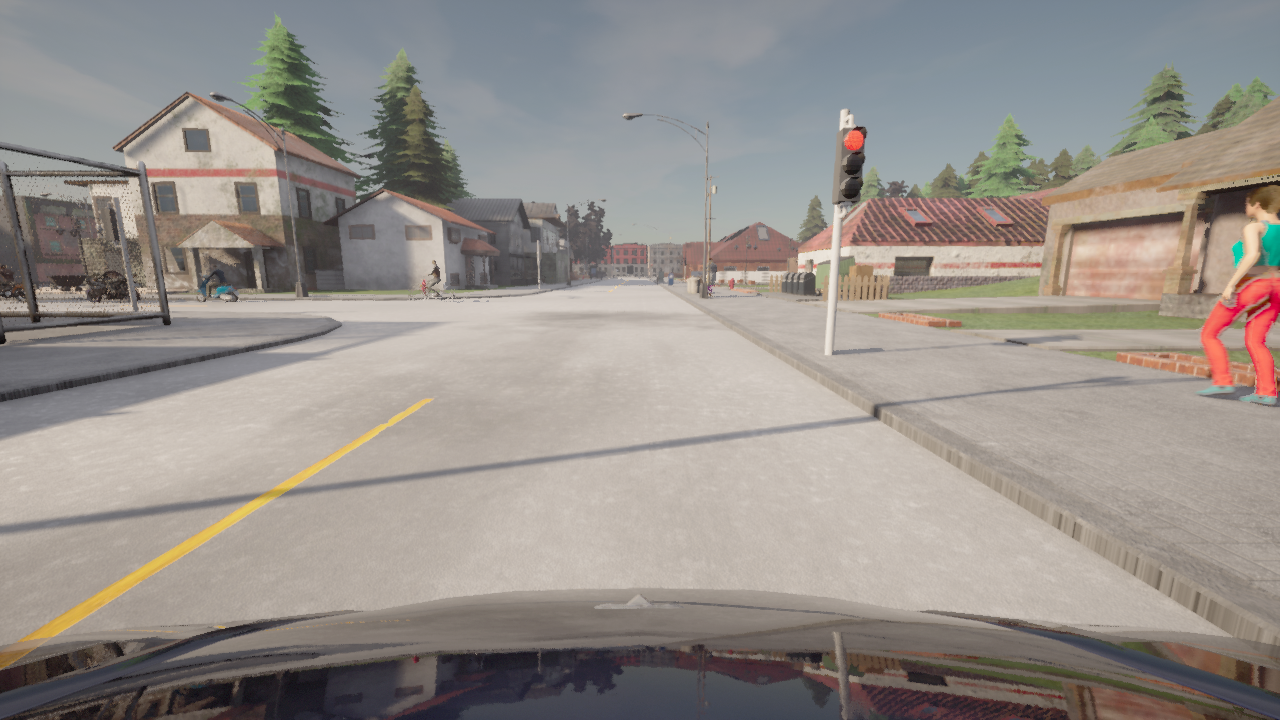cyclist: (0, 588, 1279, 719), (82, 273, 142, 302), (196, 273, 240, 302), (410, 275, 453, 302)
pedestrian: (1195, 185, 1279, 405), (706, 258, 717, 296), (550, 275, 554, 286)
